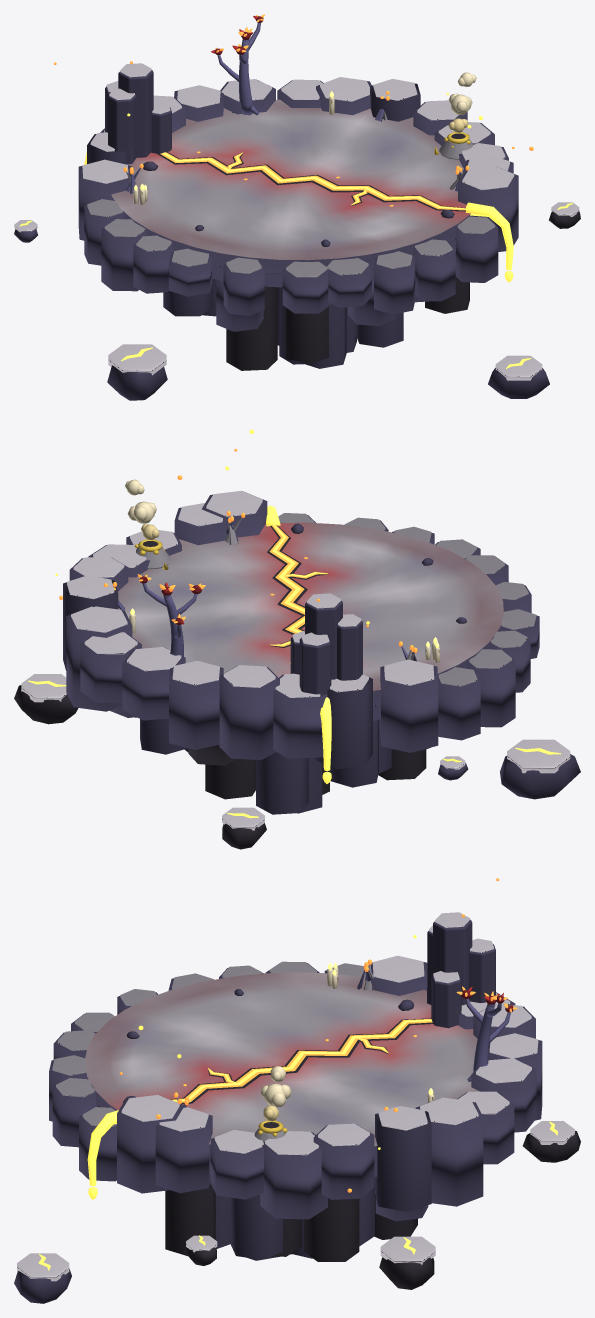
The model's file is arena_badlands.glb.
The picture shows the model from 3 angles, top to bottom: view 1: azimuth 30°, elevation 25°; view 2: azimuth 150°, elevation 25°; view 3: azimuth 270°, elevation 25°; orthographic projection. The views are drawn at different scales.
Parts seen in each view (by area): view 1: Body, Ash, Chunks, Outcrop, Crack, Vent, Tree, Candles, Tufts; view 2: Body, Ash, Chunks, Outcrop, Crack, Vent, Tree, Candles, Tufts; view 3: Body, Ash, Chunks, Outcrop, Crack, Tree, Vent, Candles.
Boxes of the visible parts, x1,y1,x2,y2 form: Body: [78, 77, 518, 370]; Ash: [111, 99, 470, 260]; Chunks: [14, 61, 580, 400]; Outcrop: [105, 63, 171, 162]; Crack: [84, 151, 513, 316]; Vent: [434, 72, 476, 159]; Tree: [211, 14, 264, 115]; Candles: [133, 91, 454, 246]; Tufts: [123, 91, 469, 193]; Body: [63, 490, 539, 814]; Ash: [118, 522, 503, 690]; Chunks: [14, 429, 580, 849]; Outcrop: [290, 593, 362, 695]; Crack: [266, 505, 331, 783]; Vent: [125, 479, 170, 569]; Tree: [137, 574, 205, 656]; Candles: [129, 523, 466, 662]; Tufts: [103, 511, 417, 661]; Body: [49, 955, 542, 1261]; Ash: [84, 972, 479, 1146]; Chunks: [14, 878, 580, 1303]; Outcrop: [427, 912, 495, 1028]; Crack: [87, 1018, 432, 1199]; Tree: [456, 986, 517, 1081]; Vent: [254, 1066, 291, 1141]; Candles: [123, 962, 434, 1102].
Bounding box in the file's own units: 8.63 × 4.68 × 8.24.
